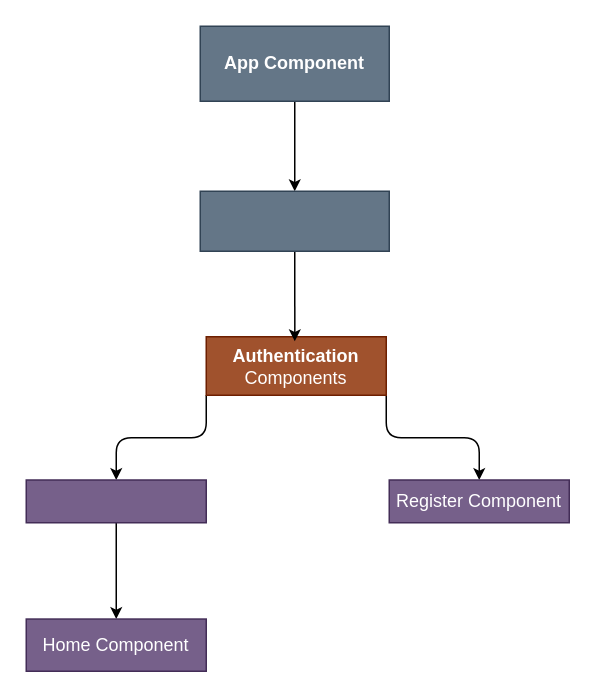
The diagram is 596 pixels wide and 698 high, and some of its shapes have lost their labels. The shapes that lost their labels are listed below. From the top down, each one's centre as x and y in pixels, then its label:
point (294, 220): App Router Component
point (115, 500): Login Component
